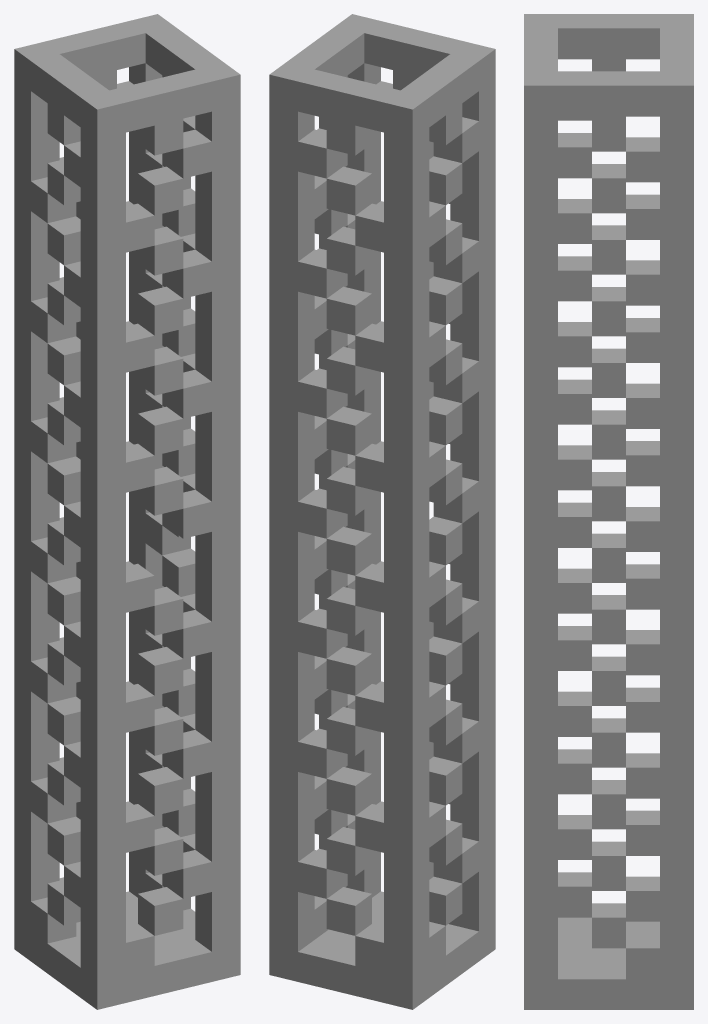
File: Scafold.fbx
3 views of the same model, side by side, from view 1: azimuth 30°, elevation 25°; view 2: azimuth 150°, elevation 25°; view 3: azimuth 270°, elevation 25° (orthographic). The views are drawn at different scales.
Visible parts, largest first — view 1: Scafold; view 2: Scafold; view 3: Scafold.
Part boxes in pixels (left/top/right/bottom): Scafold: left=14, top=14, right=240, bottom=1009; Scafold: left=269, top=14, right=495, bottom=1009; Scafold: left=524, top=14, right=693, bottom=1009.
Bounding box in the file's own units: 5 × 30 × 5.
1 material, 1 textured.
